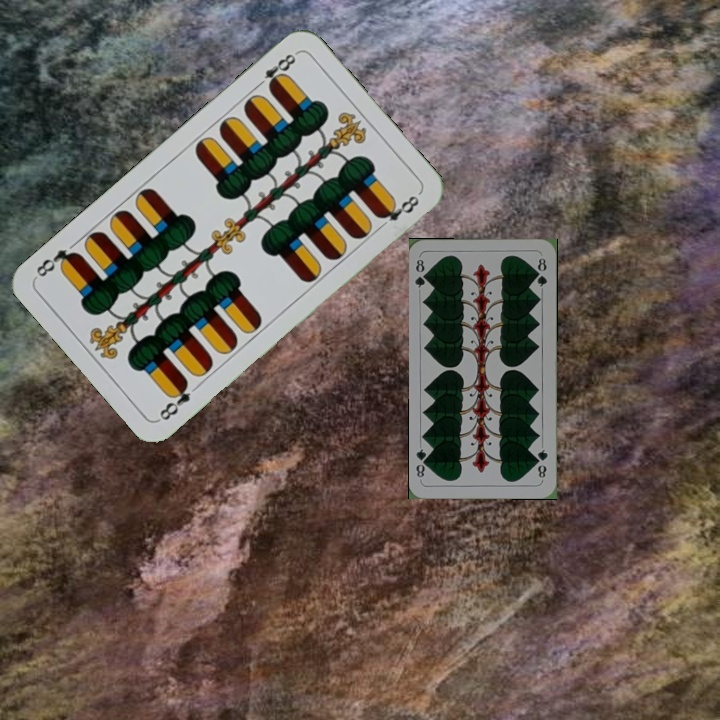E8: (251, 49, 299, 93), (155, 376, 193, 424)
G8: (412, 255, 431, 290), (533, 445, 550, 481)
